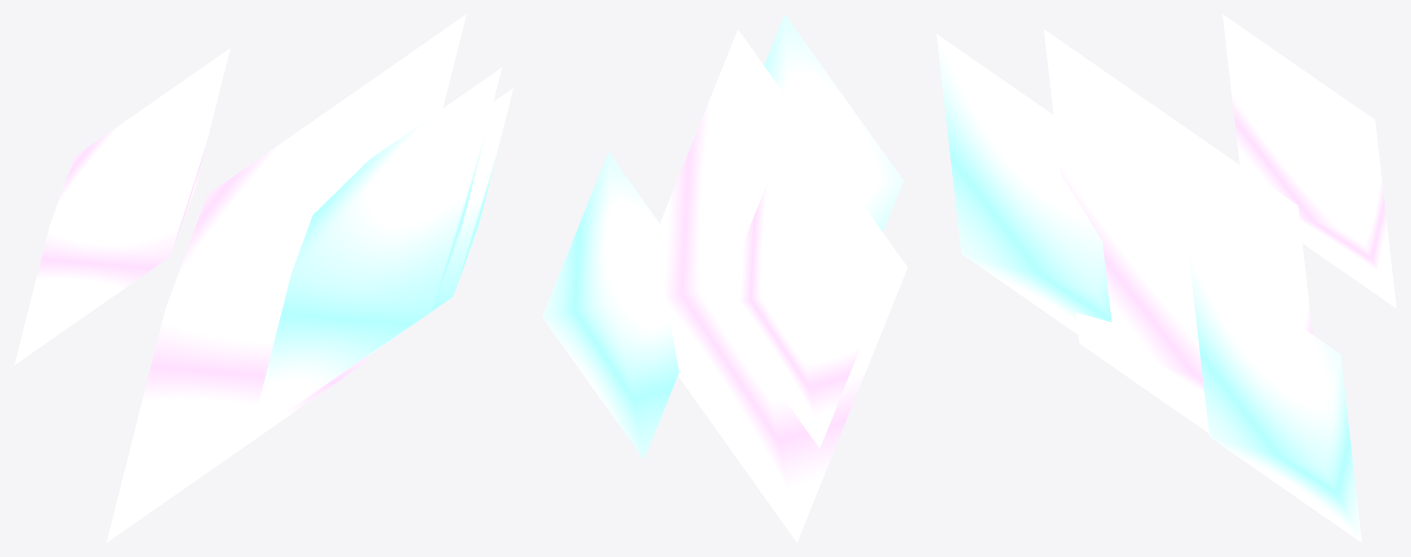
Rendered from crystal.glb.
3 renders of one model, left to right at view 1: azimuth 30°, elevation 25°; view 2: azimuth 150°, elevation 25°; view 3: azimuth 270°, elevation 25°, orthographic. The views are drawn at different scales.
Parts seen in each view (by area): view 1: CrystalCluster; view 2: CrystalCluster; view 3: CrystalCluster.
Part boxes in pixels (x1=…): CrystalCluster: x1=14, y1=14, x2=513, y2=542; CrystalCluster: x1=542, y1=14, x2=907, y2=542; CrystalCluster: x1=936, y1=14, x2=1396, y2=542.
Size of the model in its own units: 1.29 by 1.55 by 1.07.
